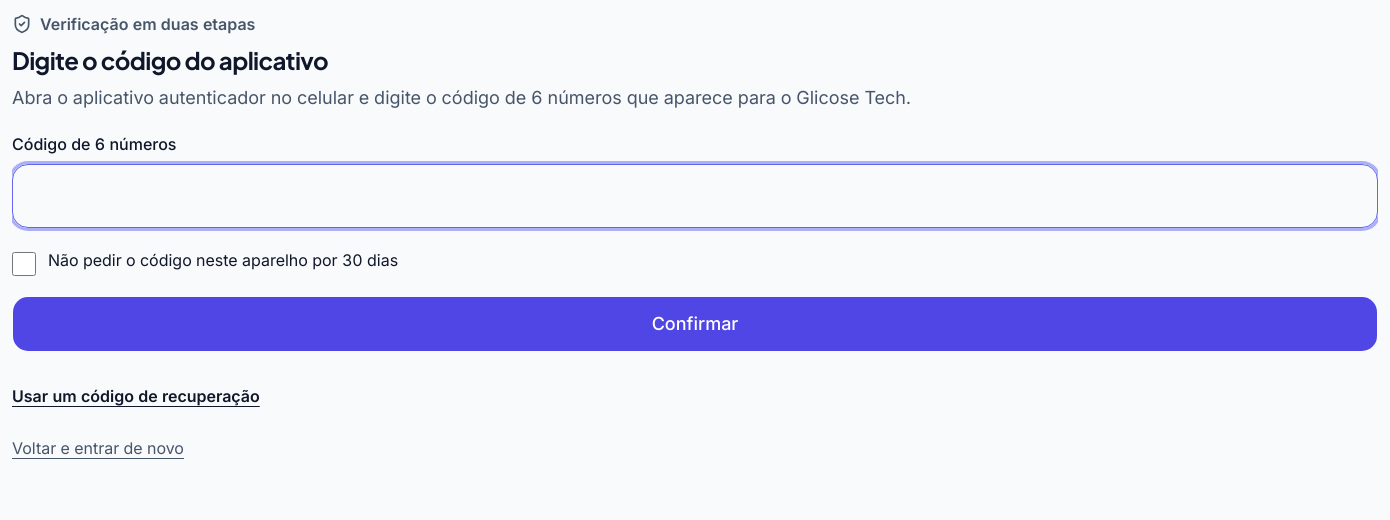
TwoFactorChallenge (segunda etapa do login) › conta bloqueada por erros seguidos explica o bloqueio de 15 minutos
The image size is (1390, 520).
Type "111111" into the field labelled "Código de 6 números".
click(695, 196); type("111111")  # box [12,164,1378,228]
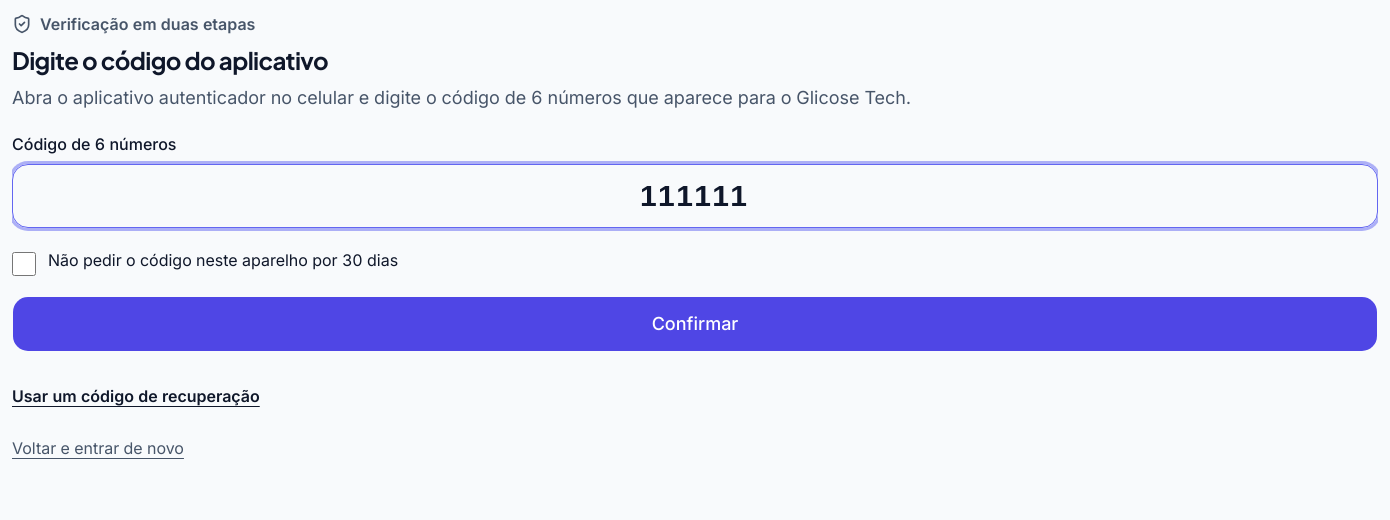
Click the button "Confirmar".
click(695, 324)  # box [12,296,1378,352]
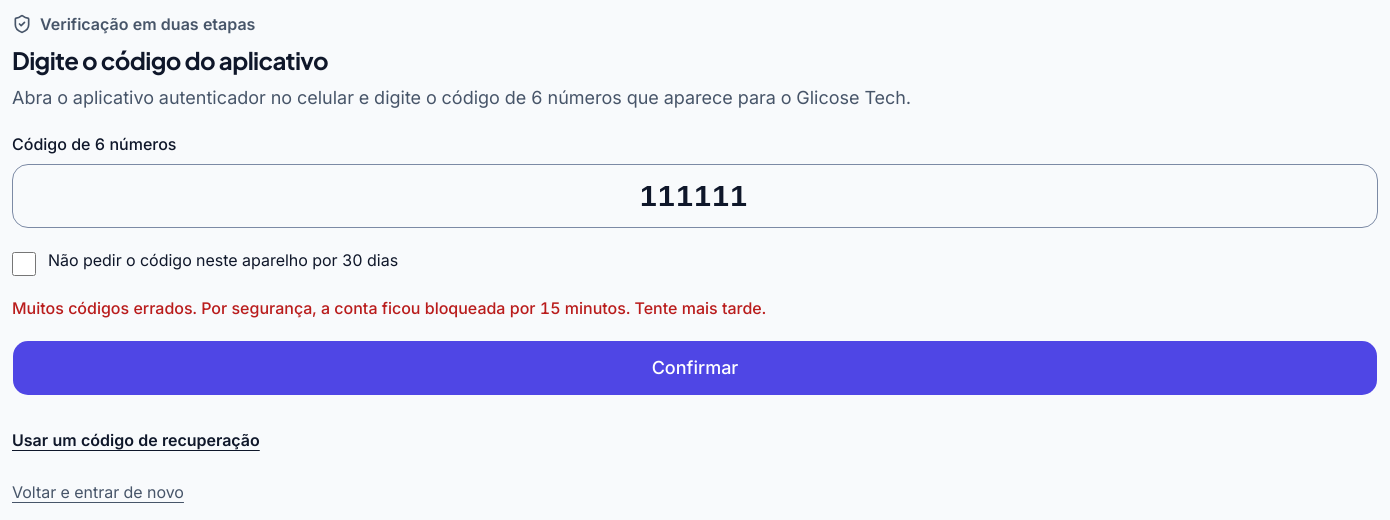
Check: the message shows "15 minutos", box [12,298,766,318]
